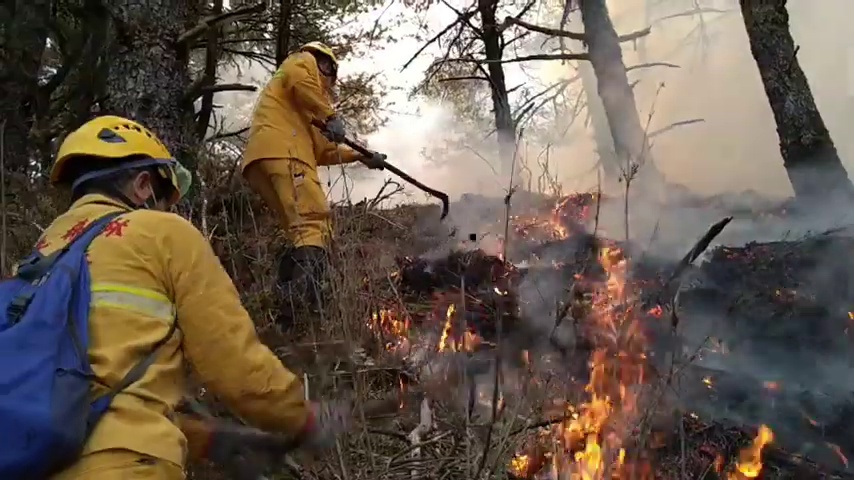fire: (565, 399, 607, 479), (596, 245, 629, 298), (736, 431, 762, 477), (549, 200, 568, 241), (439, 309, 451, 345)
